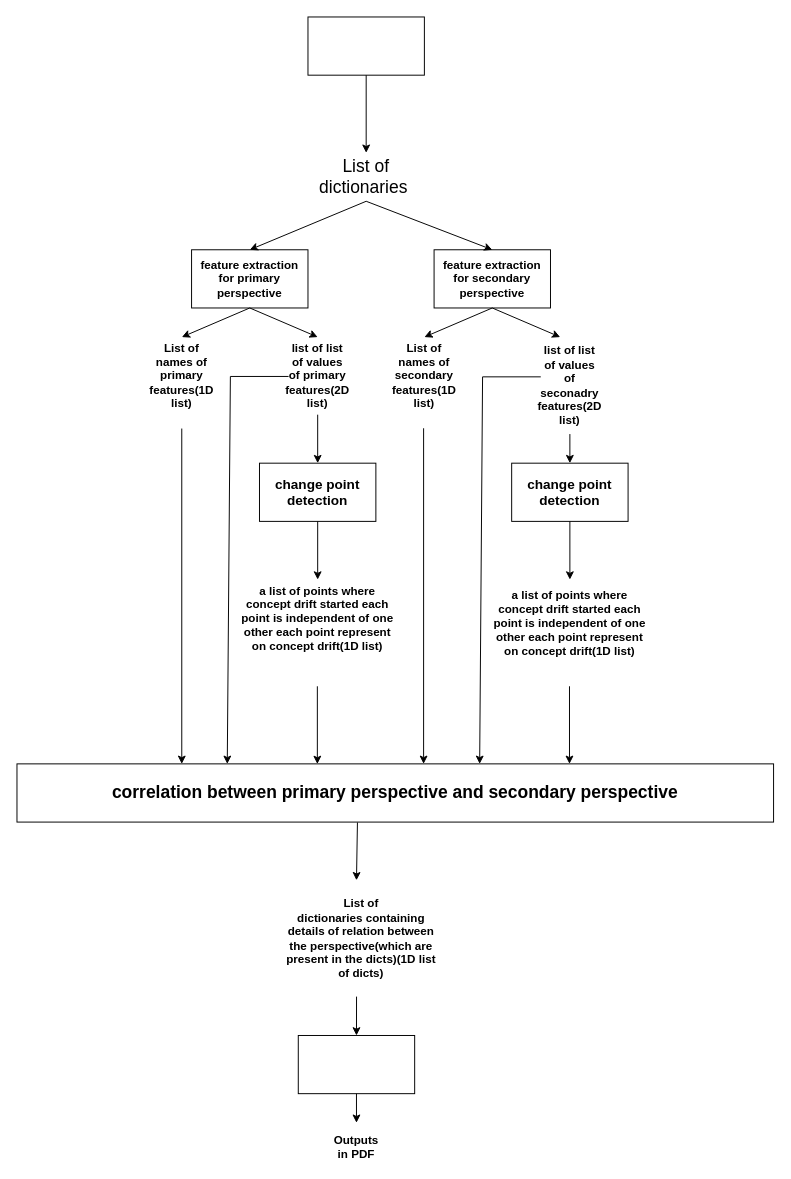
The diagram is 791 pixels wide and 1179 high, and some of its shapes have lost their labels. Here are the shapes that lost their labels. From the top down, the box of each, then its label:
(307, 16, 424, 75): .xes file extraction
(297, 1035, 415, 1094): drawing the graph of perspectives in a pdf
